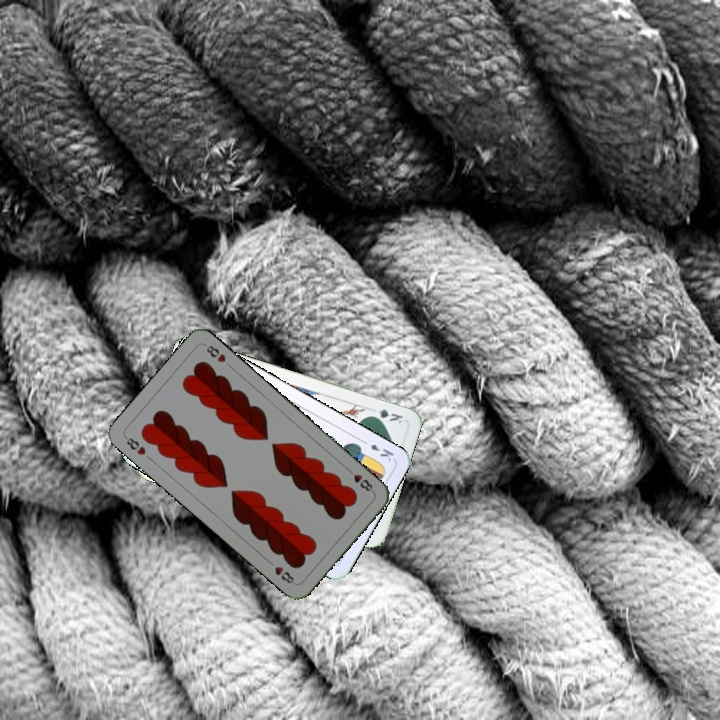EK: (358, 436, 396, 464)
GK: (365, 405, 405, 426)
H8: (343, 464, 376, 494), (121, 432, 148, 458)
